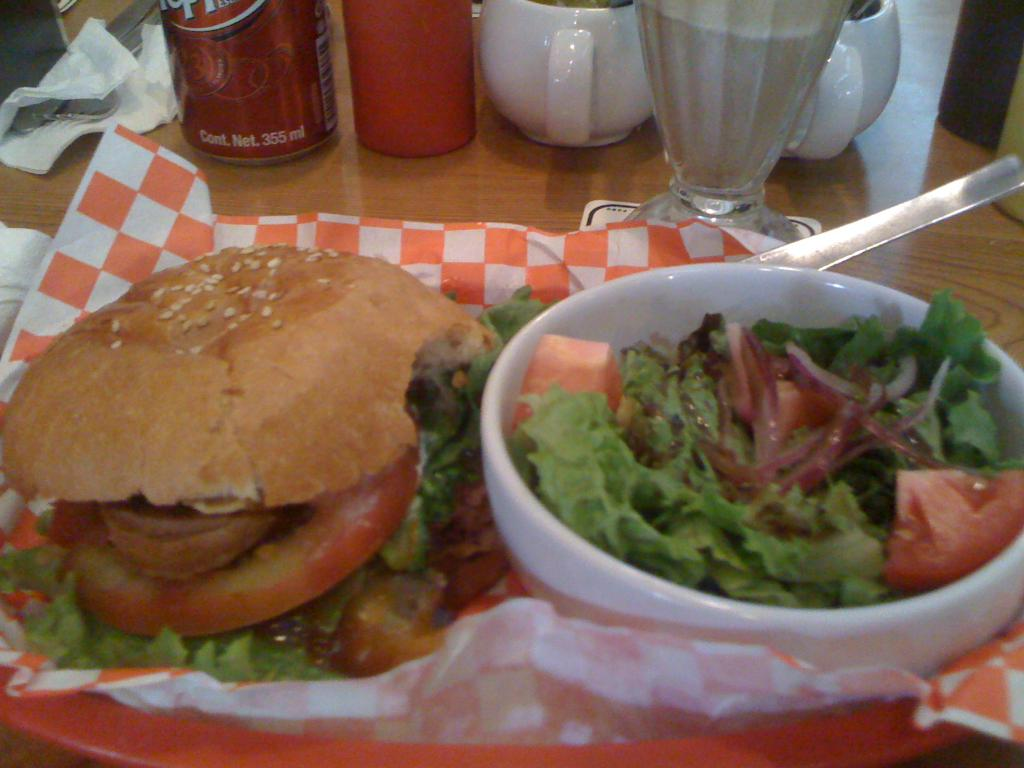Hamburger: (0, 245, 488, 642)
